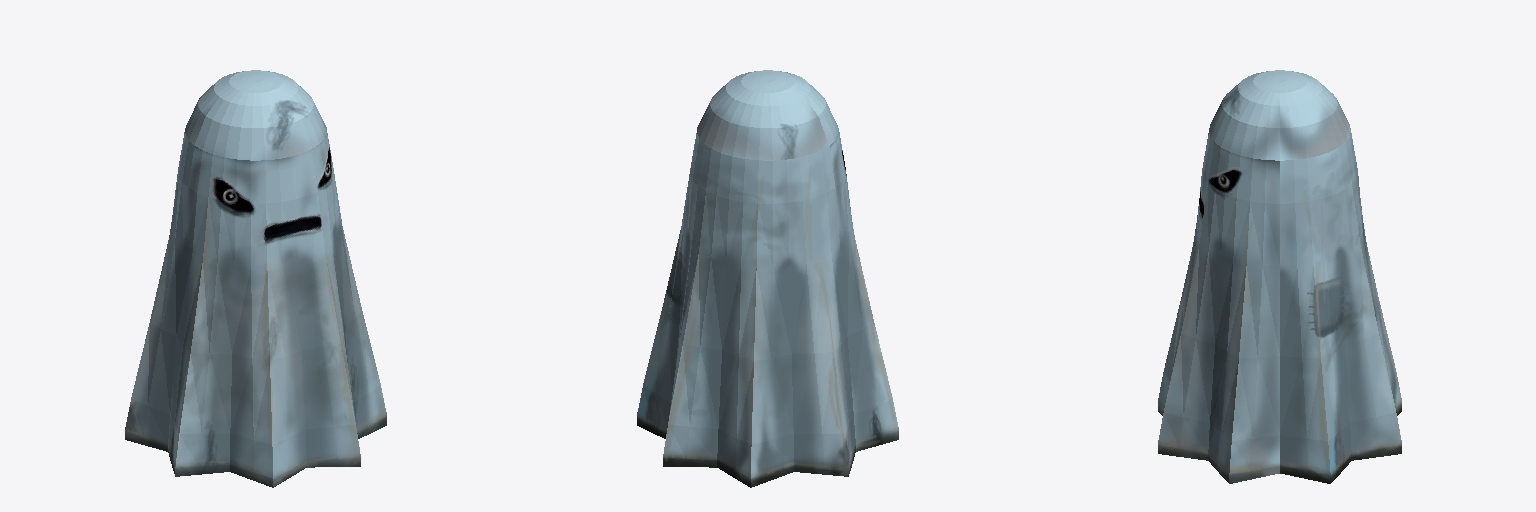
The picture shows the model from 3 angles: view 1: azimuth 30°, elevation 25°; view 2: azimuth 150°, elevation 25°; view 3: azimuth 270°, elevation 25°; orthographic projection.
Parts seen in each view (by area): view 1: Circle; view 2: Circle; view 3: Circle.
Part boxes in pixels (left/top/right/bottom): Circle: left=125, top=70, right=386, bottom=487; Circle: left=637, top=70, right=898, bottom=487; Circle: left=1158, top=70, right=1401, bottom=483.
Bounding box in the file's own units: 0.65 × 1.04 × 0.65.
1 materials, 1 textured.